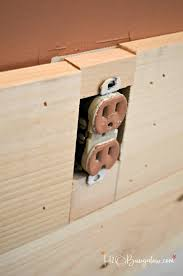outlet: (99, 101, 121, 129), (93, 143, 114, 171)
